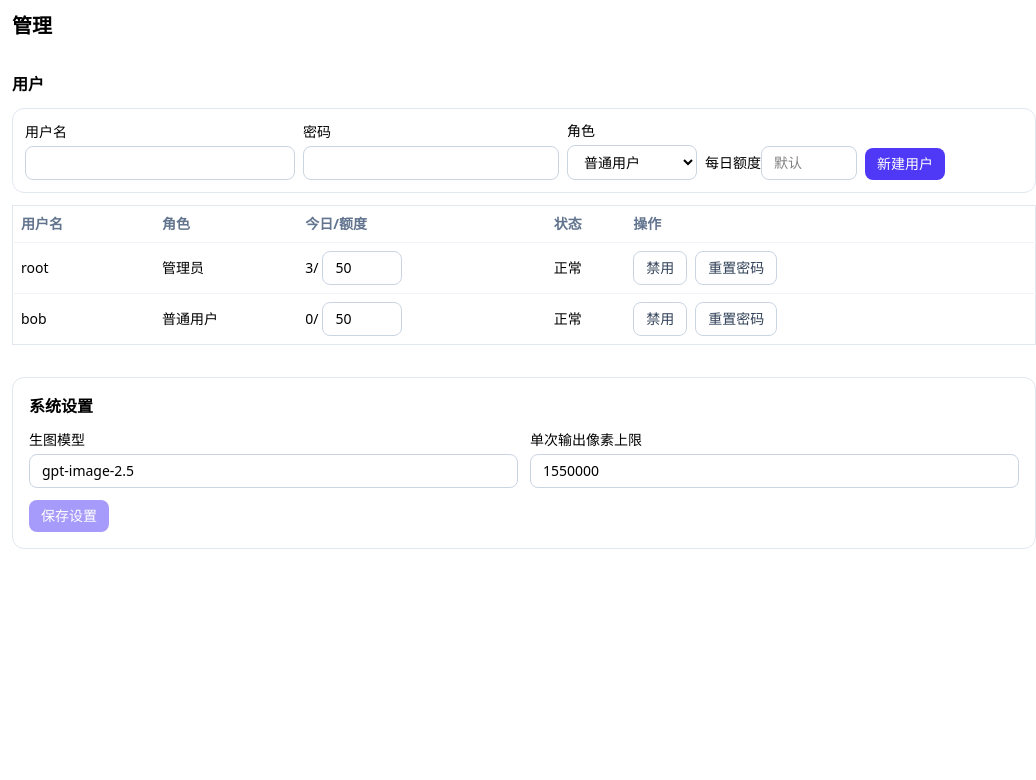
Test: setting validation errors are shown
Replace the text in the field labelled "单次输出像素上限" with "10" at (774, 471), box [530,454,1019,488]
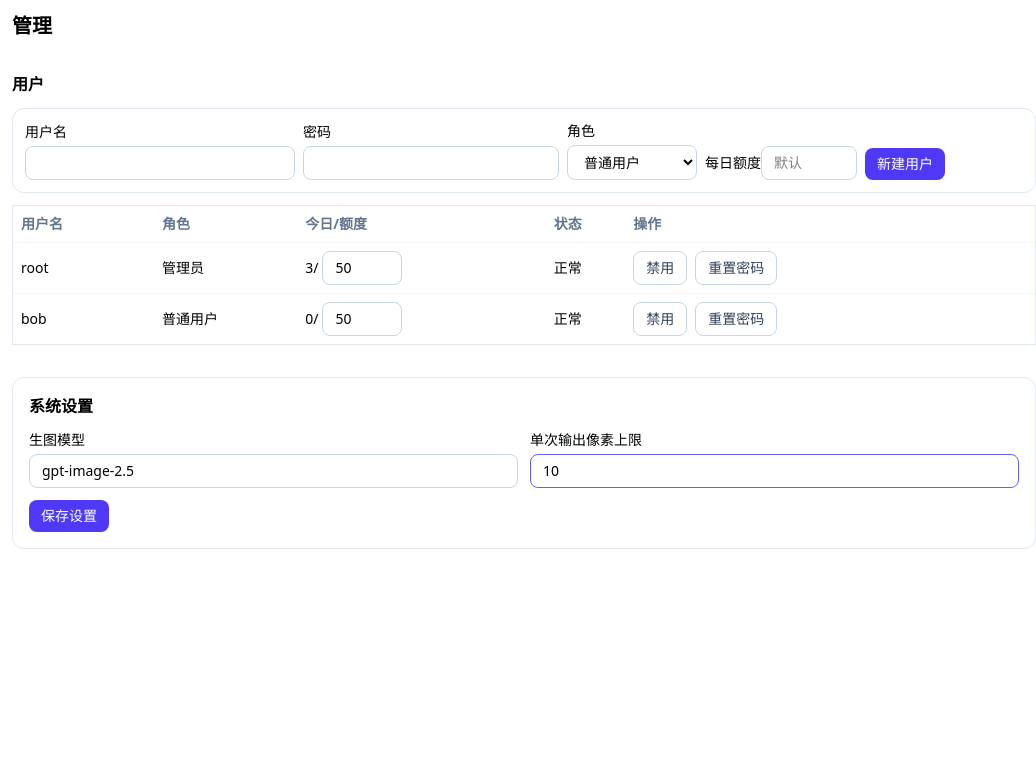
Click the button "保存设置" at (69, 516), box [29,500,109,532]
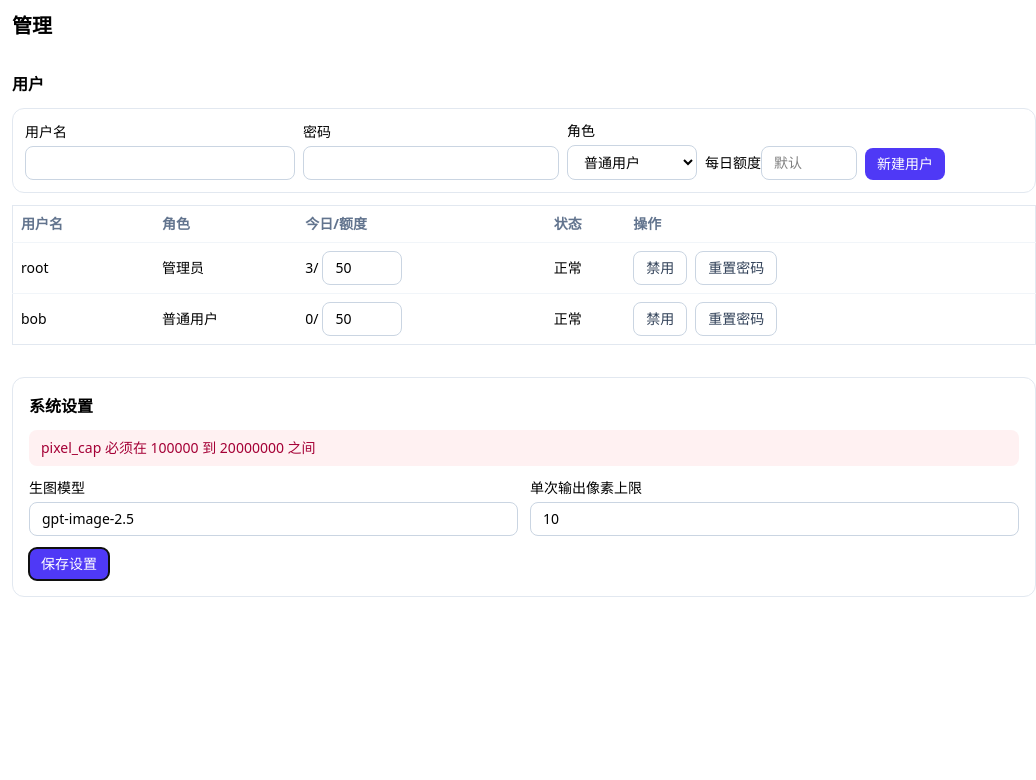
Check: the message reads "pixel_cap 必须在 100000 到 20000000 之间", box [41,438,316,457]
